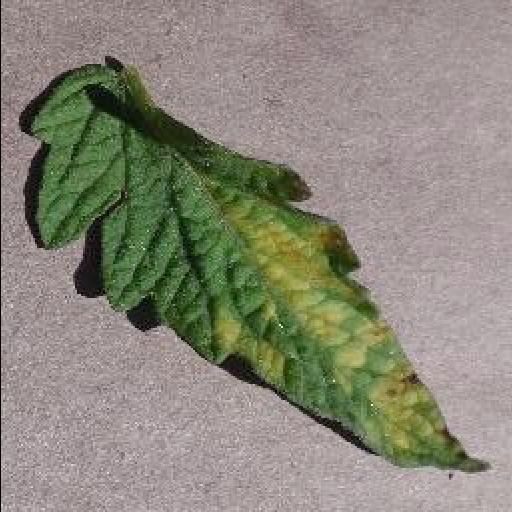disease_tomato: (26, 64, 492, 474)
